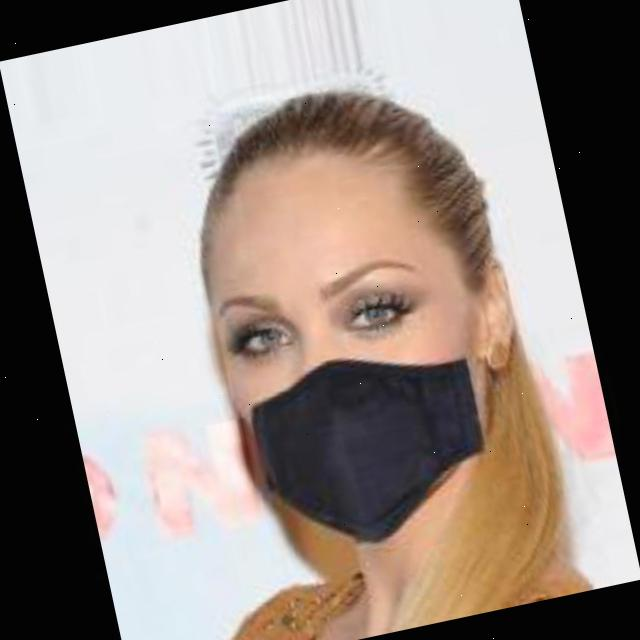suspicion: (136, 20, 600, 562)
